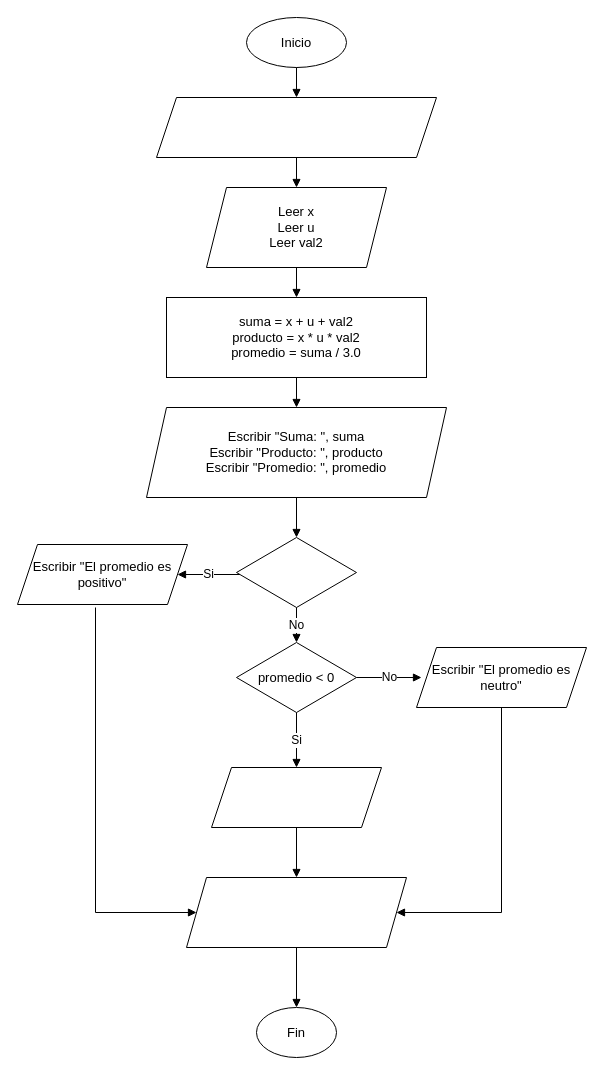
Some shapes in this 604 by 1075 pixel diagram are drawn without their labels. The shapes that lost their labels are listed below. From the top down, each one's box as (x1, y1, x2, y2) in pixels, then its label:
(156, 96, 436, 158): Escribir "Ingrese tres numeros enteros:"
(236, 536, 356, 608): promedio > 0
(210, 766, 382, 828): Escribir "El promedio es negativo"
(186, 876, 406, 948): Escribir "Operaciones: suma, producto y promedio"
